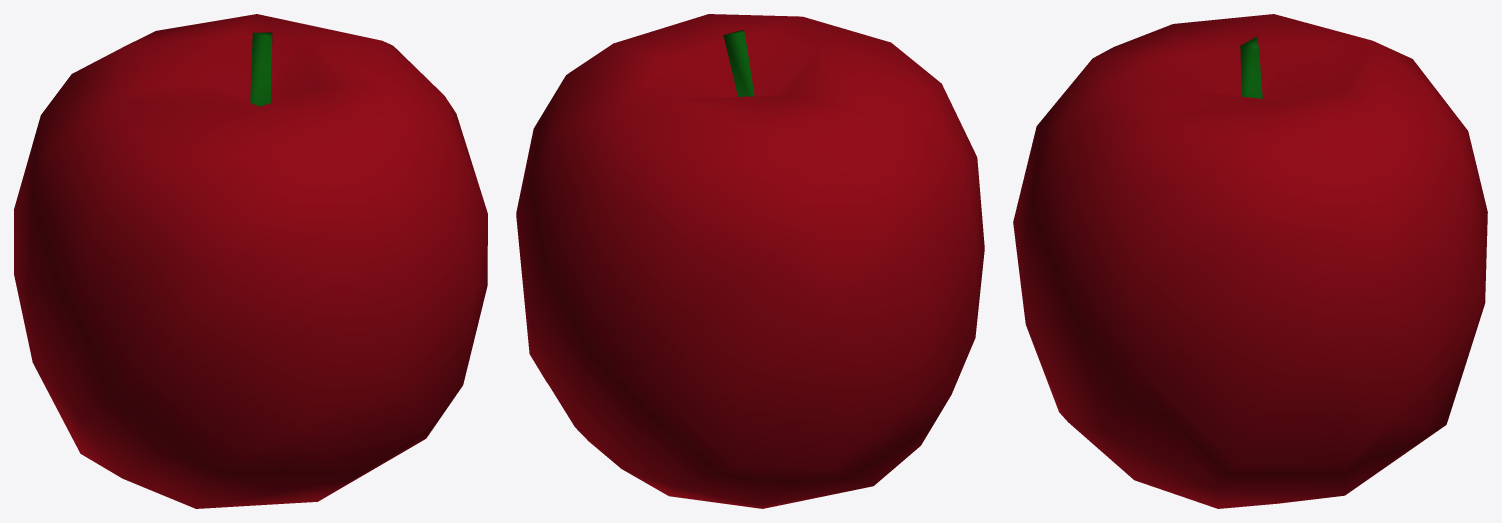
Rendered from Apple.fbx.
The picture shows the model from 3 angles, left to right: view 1: azimuth 30°, elevation 25°; view 2: azimuth 150°, elevation 25°; view 3: azimuth 270°, elevation 25°; orthographic projection.
Visible parts, largest first — view 1: tmpwkipfct2.ply; view 2: tmpwkipfct2.ply; view 3: tmpwkipfct2.ply.
Boxes of the visible parts, <box> form: tmpwkipfct2.ply: <box>14,14,487,508</box>; tmpwkipfct2.ply: <box>516,14,984,508</box>; tmpwkipfct2.ply: <box>1013,14,1487,508</box>.
Size of the model in its own units: 9.3 by 9.33 by 9.31.
